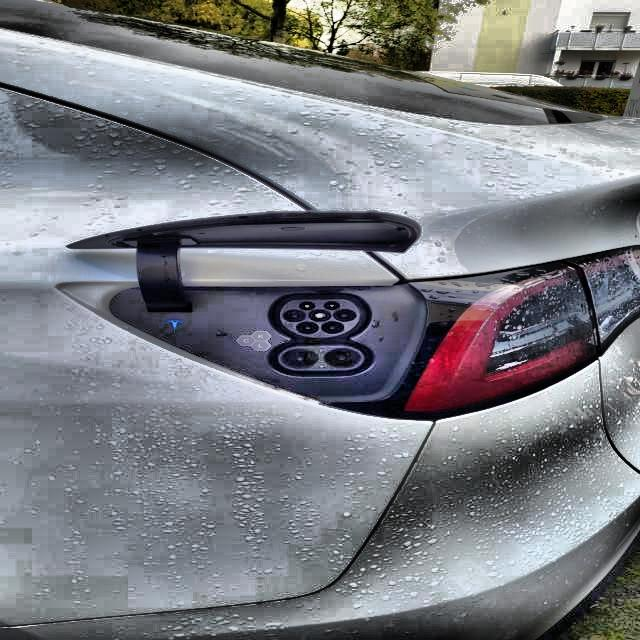inlet: (280, 299, 360, 338)
inlet-above-left: (299, 301, 316, 310)
inlet-above-right: (323, 301, 341, 310)
inlet-below-left: (296, 321, 319, 334)
inlet-below-right: (321, 321, 345, 334)
inlet-center: (308, 309, 331, 322)
inlet-center-left: (283, 309, 306, 322)
inlet-center-right: (333, 309, 357, 322)
